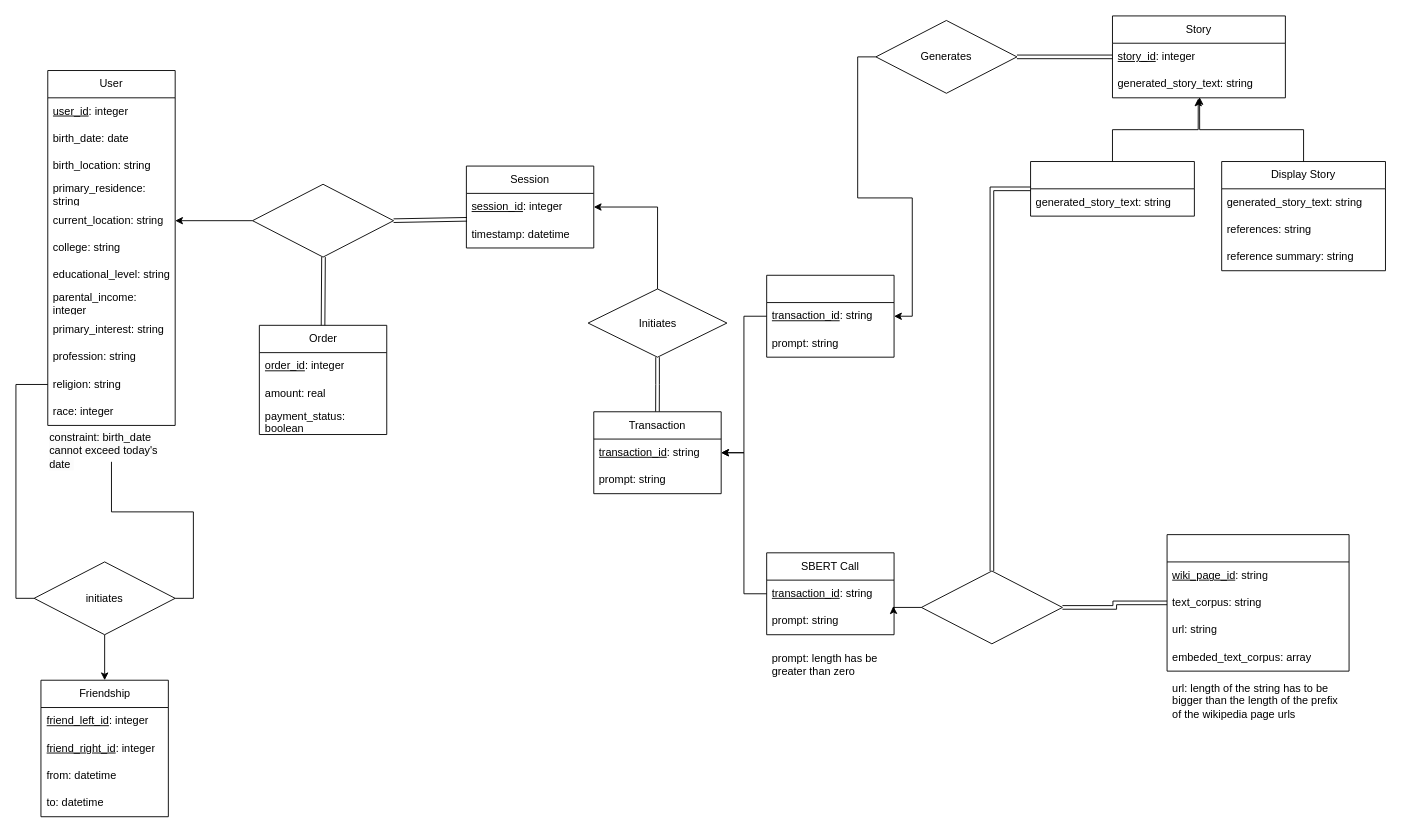
Image size: 1401x833. Some labels were removed from this diagram. Here are the shapes that lost their labels. From the top down, the box of each, then its label:
(1030, 161, 1194, 216): Temp Story
(252, 183, 394, 257): Completes
(766, 274, 894, 357): API Call
(920, 570, 1062, 644): identifies
(1166, 534, 1349, 671): Wiki Reference
